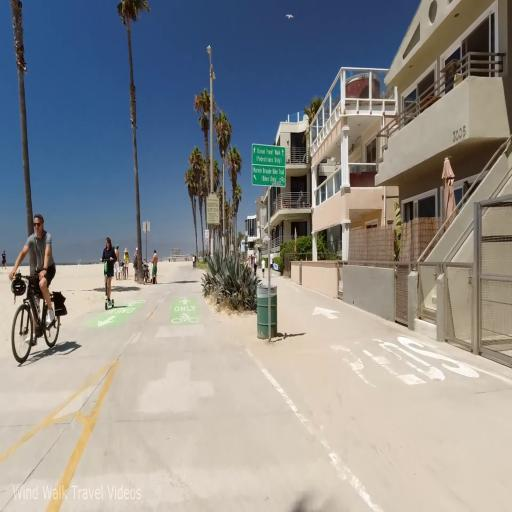Street_Light: (203, 36, 219, 283), (218, 141, 228, 288)
